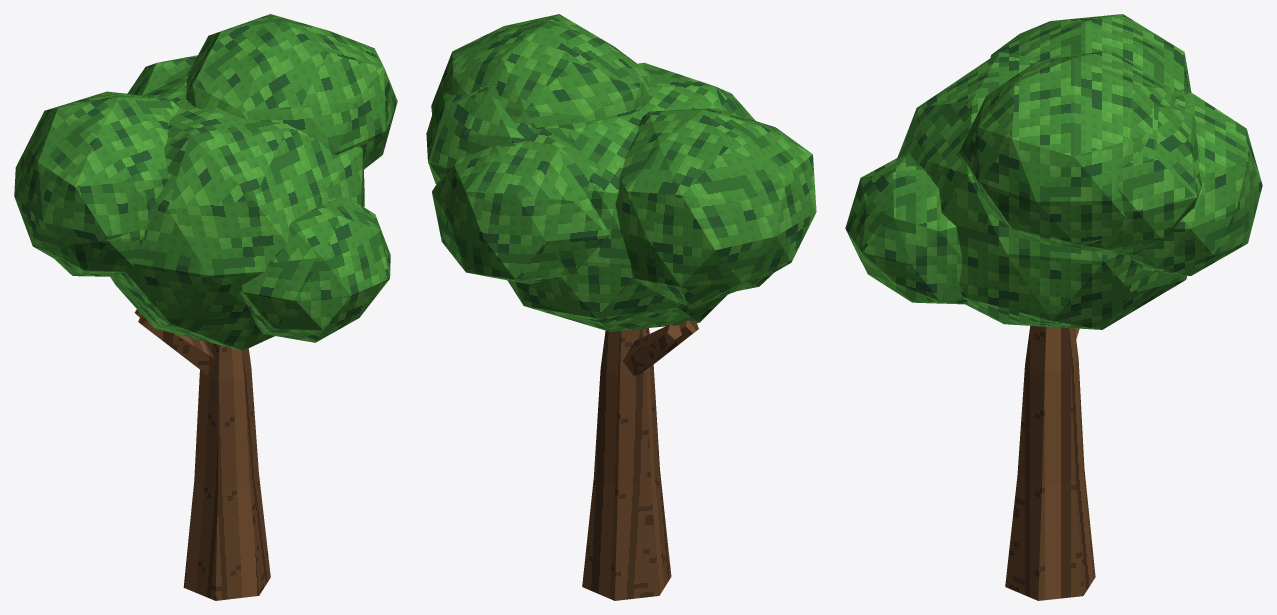
Rendered from oak0.glb.
3 renders of one model, left to right at view 1: azimuth 30°, elevation 25°; view 2: azimuth 150°, elevation 25°; view 3: azimuth 270°, elevation 25°, orthographic. The views are drawn at different scales.
Visible parts, largest first — view 1: oak0; view 2: oak0; view 3: oak0.
Part boxes in pixels (bbox=[...]): oak0: bbox=[14, 14, 397, 600]; oak0: bbox=[426, 14, 816, 600]; oak0: bbox=[845, 14, 1262, 600].
Size of the model in its own units: 5.05 by 7.46 by 5.06.
Materials: 2 (2 with a texture image).
